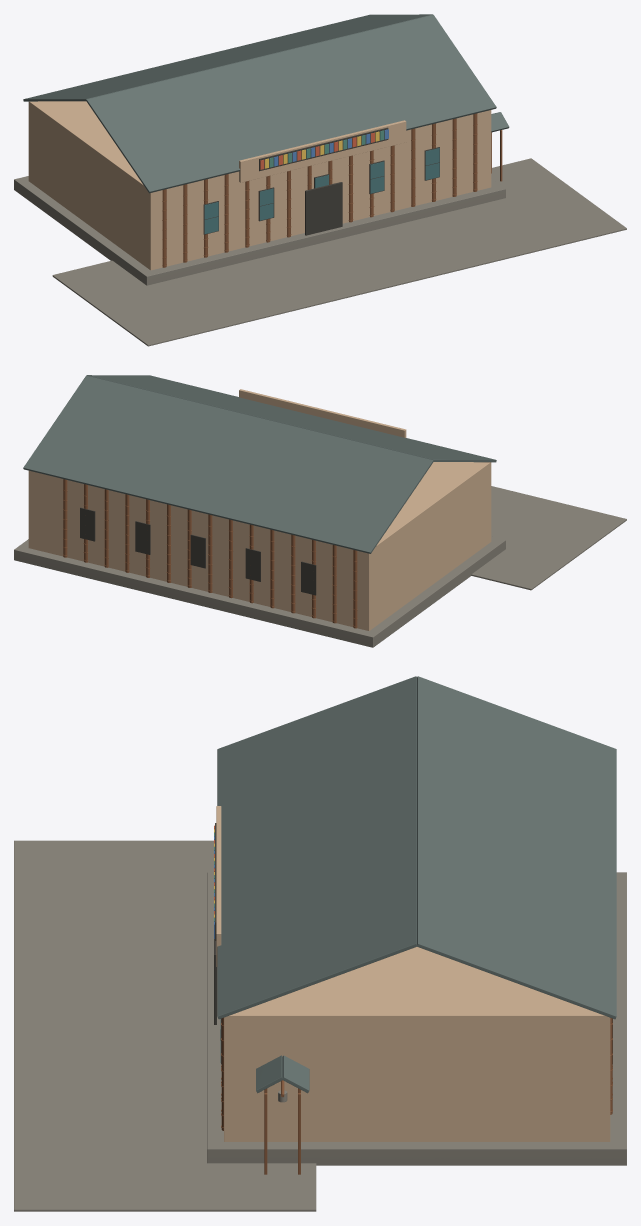
Rendered from eglise_saint_michel_nkembo.glb.
3 views of the same model, one above another, from view 1: azimuth 30°, elevation 25°; view 2: azimuth 150°, elevation 25°; view 3: azimuth 270°, elevation 25° (orthographic). The views are drawn at different scales.
Visible parts, largest first — view 1: Toiture_deux_pans, Parvis, Nef, Soubassement, Toiture_deux_pans.001, Fronton, Porte, Bandeau_mosaique; view 2: Toiture_deux_pans.001, Nef, Parvis, Soubassement, Toiture_deux_pans, Fronton, Baie_laterale_cadre.005, Baie_laterale_cadre.006, Baie_laterale_cadre.008, Baie_laterale_cadre.009, Baie_laterale_cadre.007; view 3: Parvis, Nef, Toiture_deux_pans.001, Toiture_deux_pans, Soubassement, Fronton.
Part boxes in pixels (left/top/right/bottom): Toiture_deux_pans: left=86, top=15, right=496, bottom=193; Parvis: left=52, top=158, right=626, bottom=346; Nef: left=28, top=101, right=491, bottom=270; Soubassement: left=14, top=176, right=505, bottom=285; Toiture_deux_pans.001: left=23, top=14, right=433, bottom=101; Fronton: left=239, top=120, right=406, bottom=182; Porte: left=305, top=182, right=342, bottom=235; Bandeau_mosaique: left=259, top=127, right=388, bottom=171; Toiture_deux_pans.001: left=23, top=375, right=433, bottom=553; Nef: left=28, top=462, right=491, bottom=630; Parvis: left=471, top=486, right=626, bottom=590; Soubassement: left=14, top=536, right=505, bottom=647; Toiture_deux_pans: left=86, top=375, right=496, bottom=462; Fronton: left=239, top=389, right=406, bottom=437; Baie_laterale_cadre.005: left=301, top=561, right=316, bottom=595; Baie_laterale_cadre.006: left=245, top=548, right=260, bottom=581; Baie_laterale_cadre.008: left=135, top=521, right=150, bottom=554; Baie_laterale_cadre.009: left=80, top=507, right=95, bottom=541; Baie_laterale_cadre.007: left=190, top=534, right=205, bottom=568; Parvis: left=14, top=840, right=316, bottom=1211; Nef: left=224, top=947, right=610, bottom=1141; Toiture_deux_pans.001: left=417, top=676, right=616, bottom=1019; Toiture_deux_pans: left=217, top=676, right=417, bottom=1019; Soubassement: left=207, top=872, right=626, bottom=1165; Fronton: left=216, top=806, right=221, bottom=966.
Size of the model in its own units: 52 by 14.29 by 36.5.
